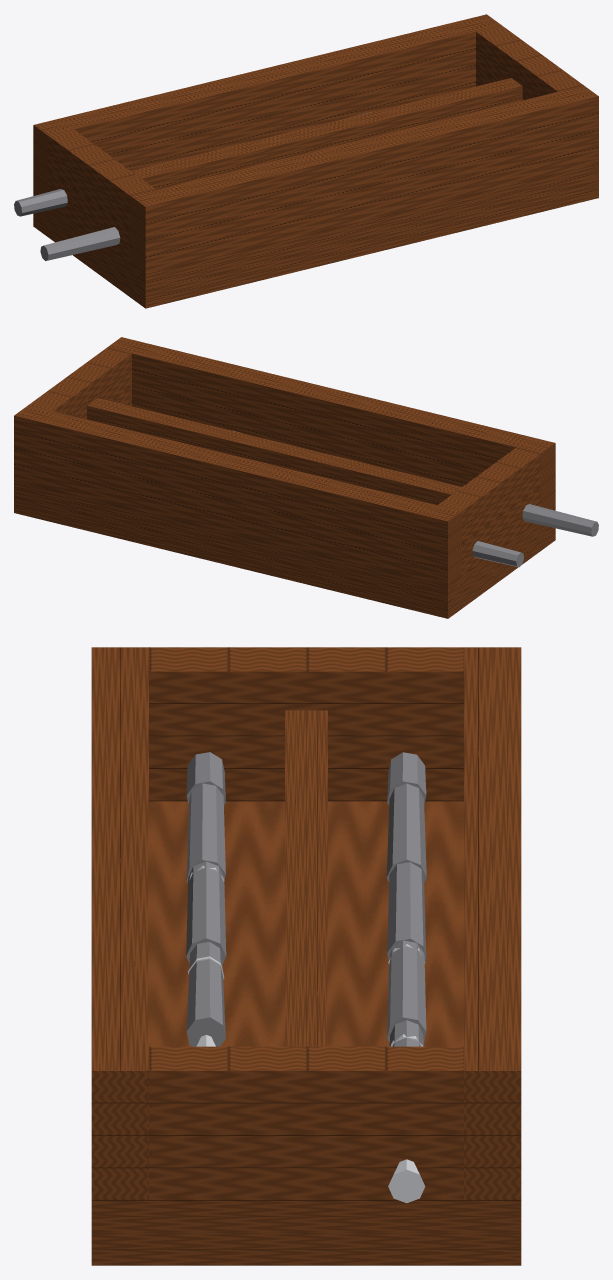
The model's file is blacksmith-forge-and-armoury-blacksmith-forge-and-armo-4f555f57__37578.glb.
3 renders of one model, top to bottom at view 1: azimuth 30°, elevation 25°; view 2: azimuth 150°, elevation 25°; view 3: azimuth 270°, elevation 25°, orthographic. The views are drawn at different scales.
Visible parts, largest first — view 1: blacksmith-forge-and-armoury-chisel-and-punch-tray; view 2: blacksmith-forge-and-armoury-chisel-and-punch-tray; view 3: blacksmith-forge-and-armoury-chisel-and-punch-tray.
Part boxes in pixels (x1,y1,x2,y2): blacksmith-forge-and-armoury-chisel-and-punch-tray: (14,14,598,308); blacksmith-forge-and-armoury-chisel-and-punch-tray: (14,337,598,618); blacksmith-forge-and-armoury-chisel-and-punch-tray: (91,647,521,1265).
Bounding box in the file's own units: 0.84 × 0.15 × 0.3.
Materials: 3 (1 with a texture image).
